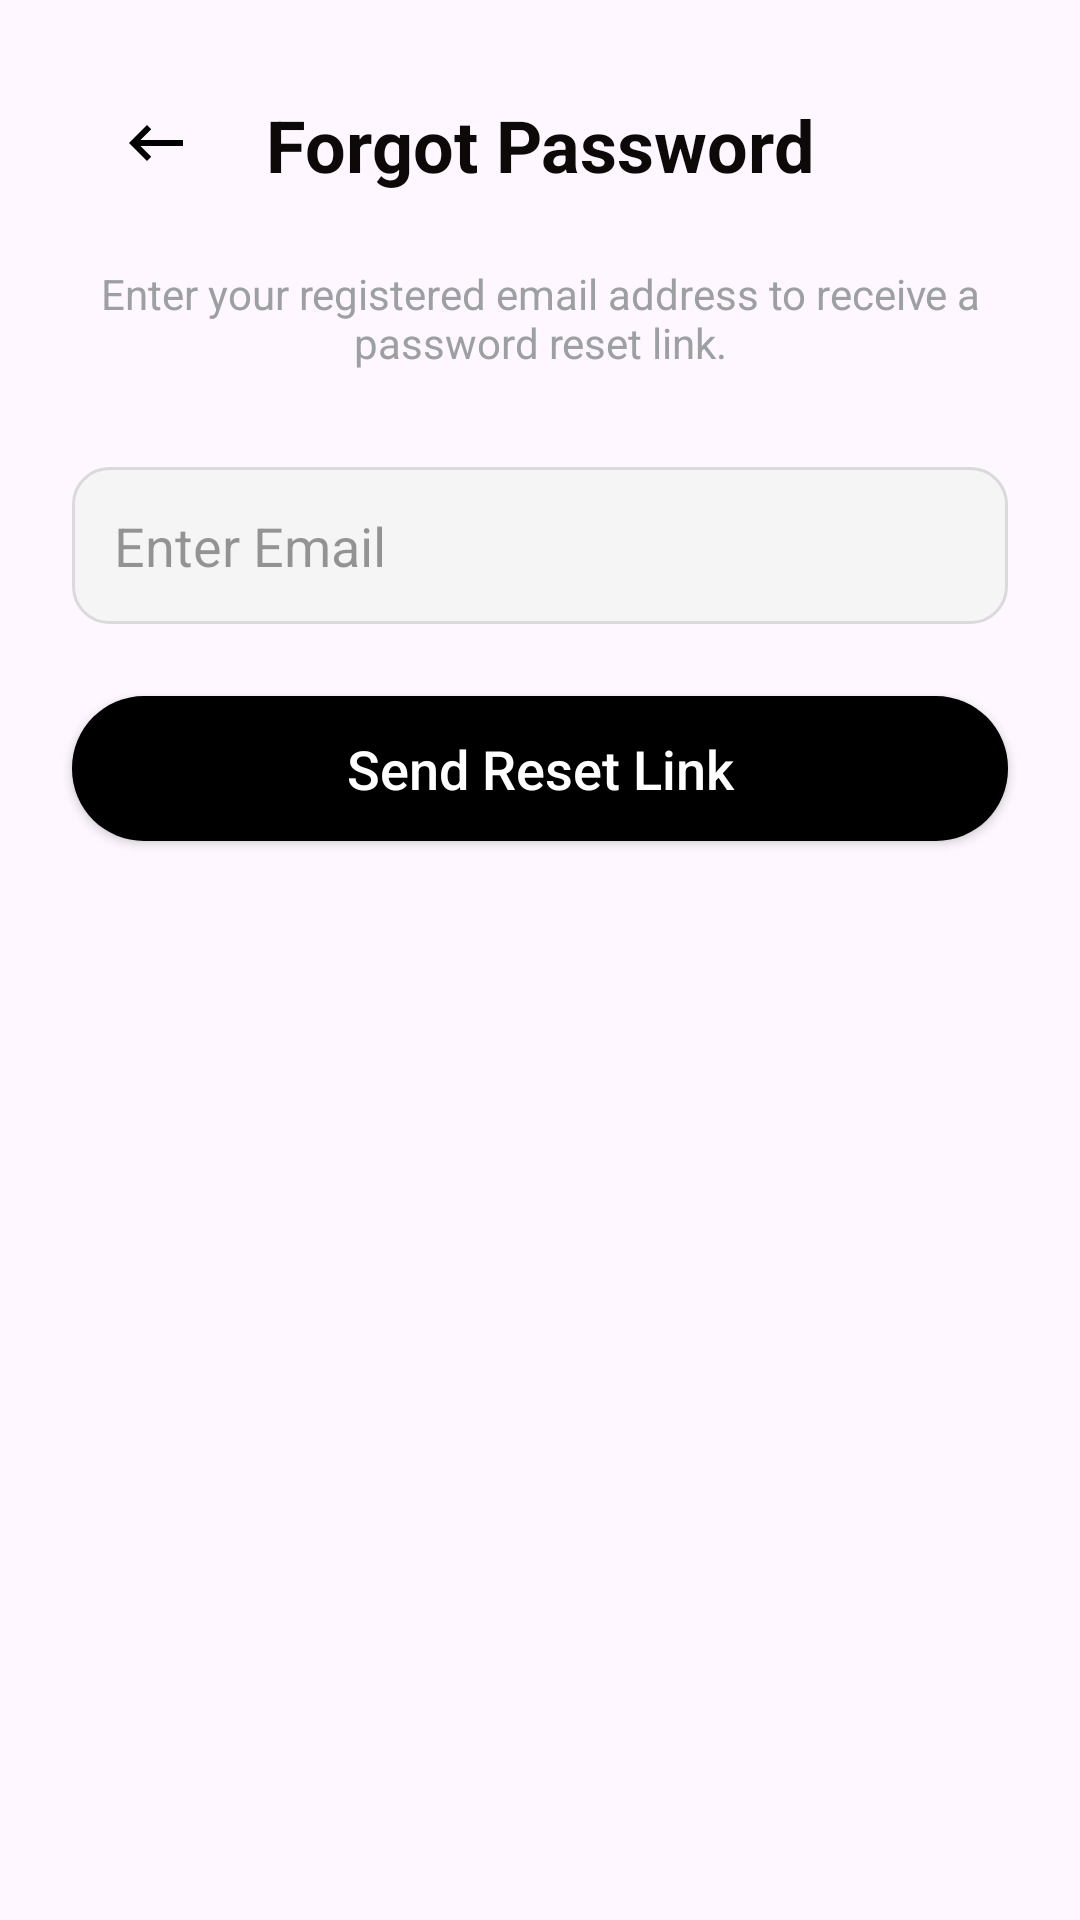

Where icons sit on this 1080 x 1920 app screen, as (x1, y1, x2, y2):
Back Button to go back: (129, 125, 183, 161)
